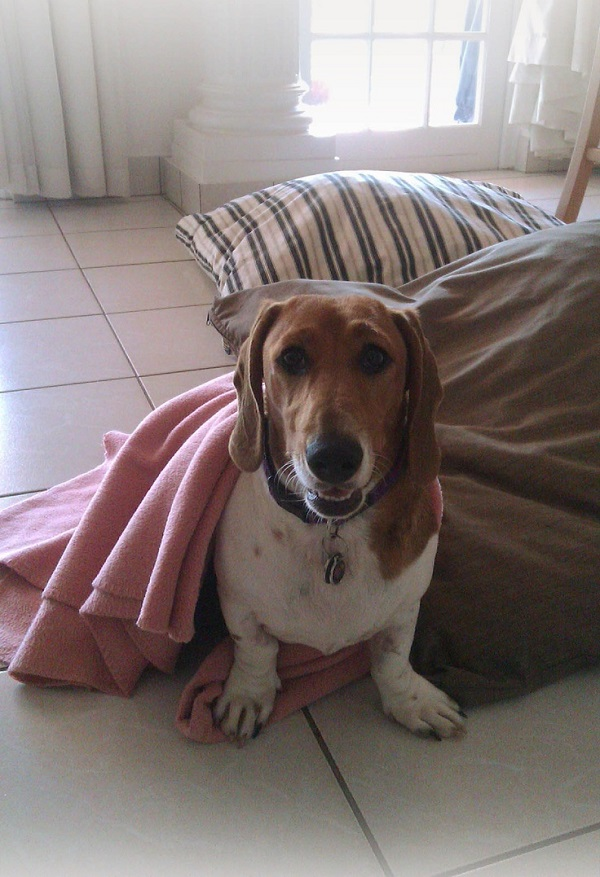dog: (194, 290, 474, 763)
